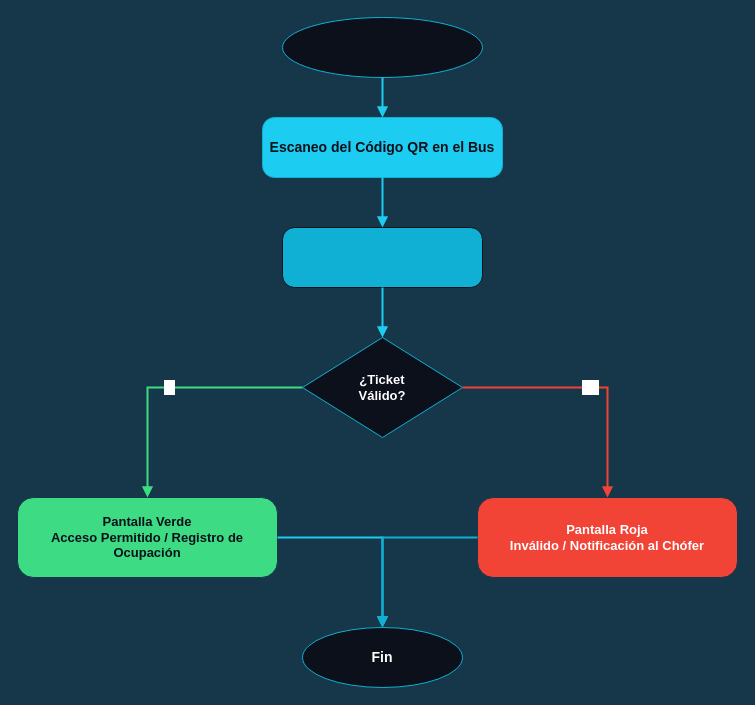
Some shapes in this 755 by 705 pixel diagram are drawn without their labels. The centre of each missing label's shape, as x and y in pixels:
"Inicio: Pasajero Aborda" goes at [382,47].
"Validación del Servidor" goes at [382,257].
